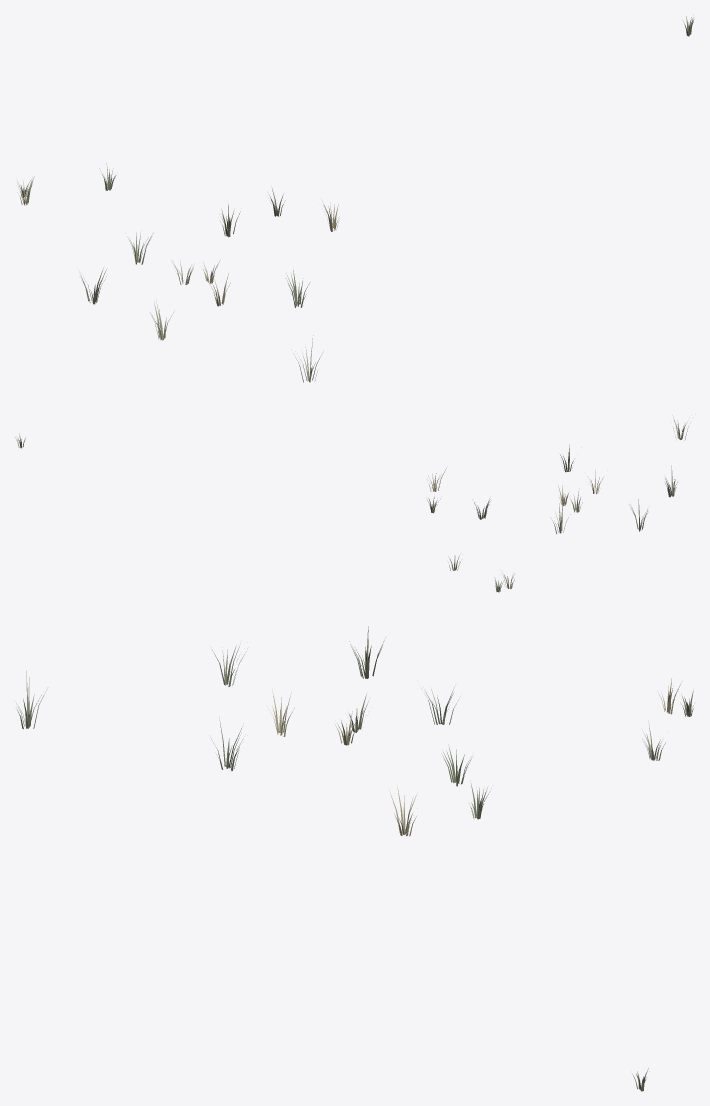
Rendered from AE_Grass_-5_2.fbx.
3 views of the same model, one above another, from view 1: azimuth 30°, elevation 25°; view 2: azimuth 150°, elevation 25°; view 3: azimuth 270°, elevation 25° (orthographic). The views are drawn at different scales.
Visible parts, largest first — view 1: AE_Grass_-5_2_LOD0; view 2: AE_Grass_-5_2_LOD0; view 3: AE_Grass_-5_2_LOD0.
Part boxes in pixels (x1,y1,x2,y2): AE_Grass_-5_2_LOD0: (17, 16, 693, 382); AE_Grass_-5_2_LOD0: (15, 415, 688, 592); AE_Grass_-5_2_LOD0: (16, 626, 693, 1091).
Size of what is drawn, in the model's own units: 1771 by 98.73 by 1145.
